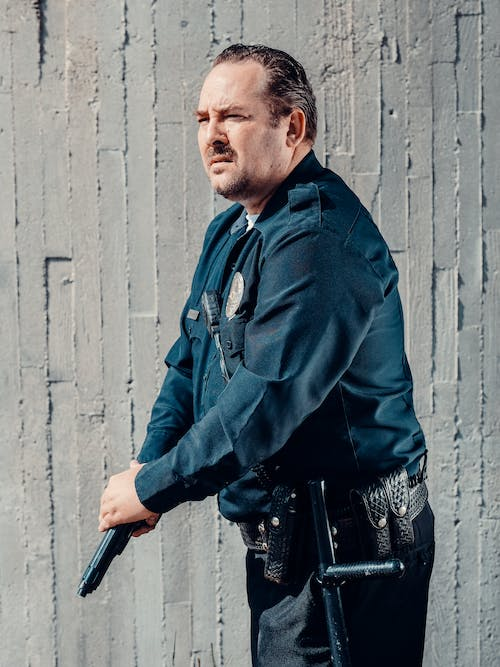gun: (74, 508, 164, 601)
